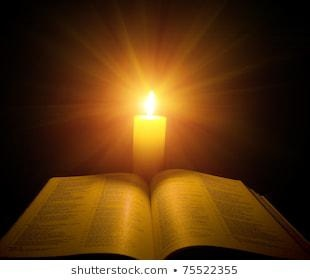fire: (140, 87, 160, 116)
